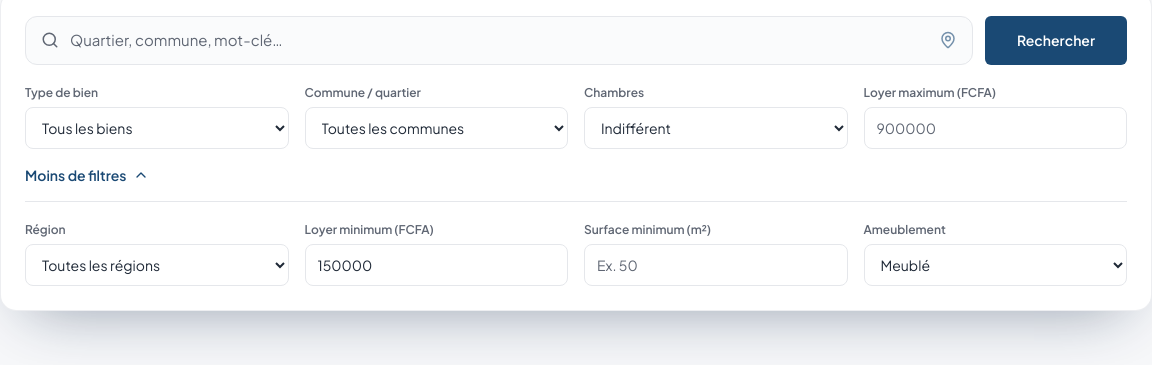
Scenario: LocationFilters (panneau) › signale le nombre de critères avancés actifs quand ils sont repliés
This screenshot has width=1152, height=365.
Click the button "Moins de filtres". click: (87, 174)
box: [25,164,148,184]
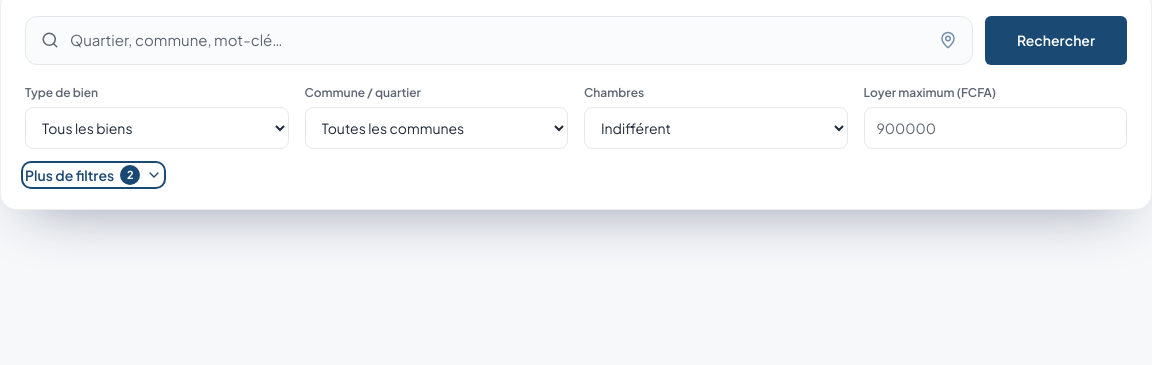
Result: the button "Plus de filtres 2" is shown at [25,164,162,184]
